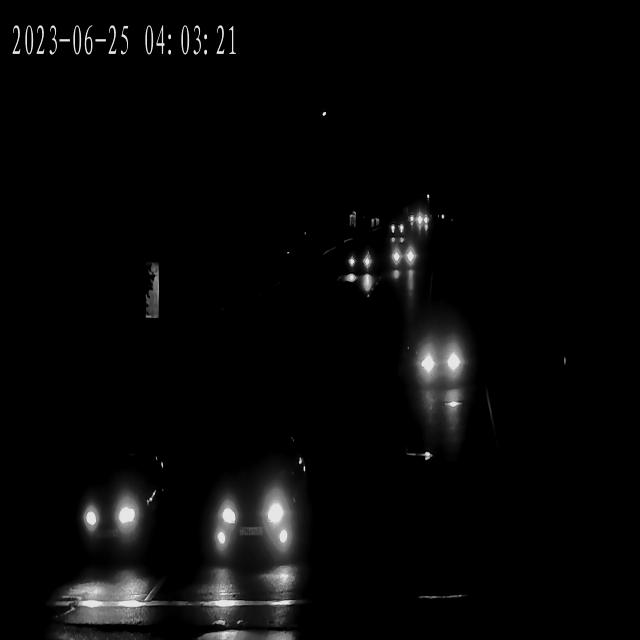Car: (73, 440, 167, 556), (198, 455, 298, 557), (410, 323, 468, 386), (341, 246, 375, 278), (388, 242, 416, 271), (408, 214, 428, 230), (386, 219, 404, 236)
